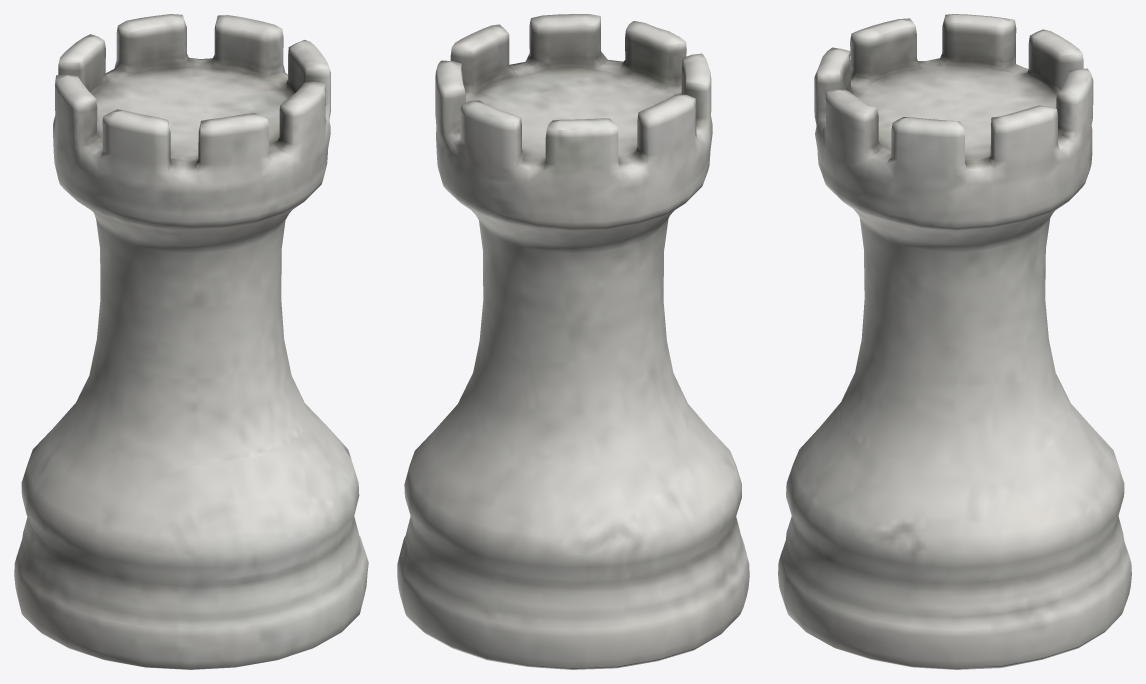
Rendered from rook_white.glb.
3 renders of one model, left to right at view 1: azimuth 30°, elevation 25°; view 2: azimuth 150°, elevation 25°; view 3: azimuth 270°, elevation 25°, orthographic.
Parts seen in each view (by area): view 1: piece_rook_white_01; view 2: piece_rook_white_01; view 3: piece_rook_white_01.
Part boxes in pixels (x1,y1,x2,y2): piece_rook_white_01: [14, 14, 368, 669]; piece_rook_white_01: [397, 14, 749, 669]; piece_rook_white_01: [778, 14, 1131, 669].
Size of the model in its own units: 0.0368 by 0.0606 by 0.0367.
1 material, 1 textured.
